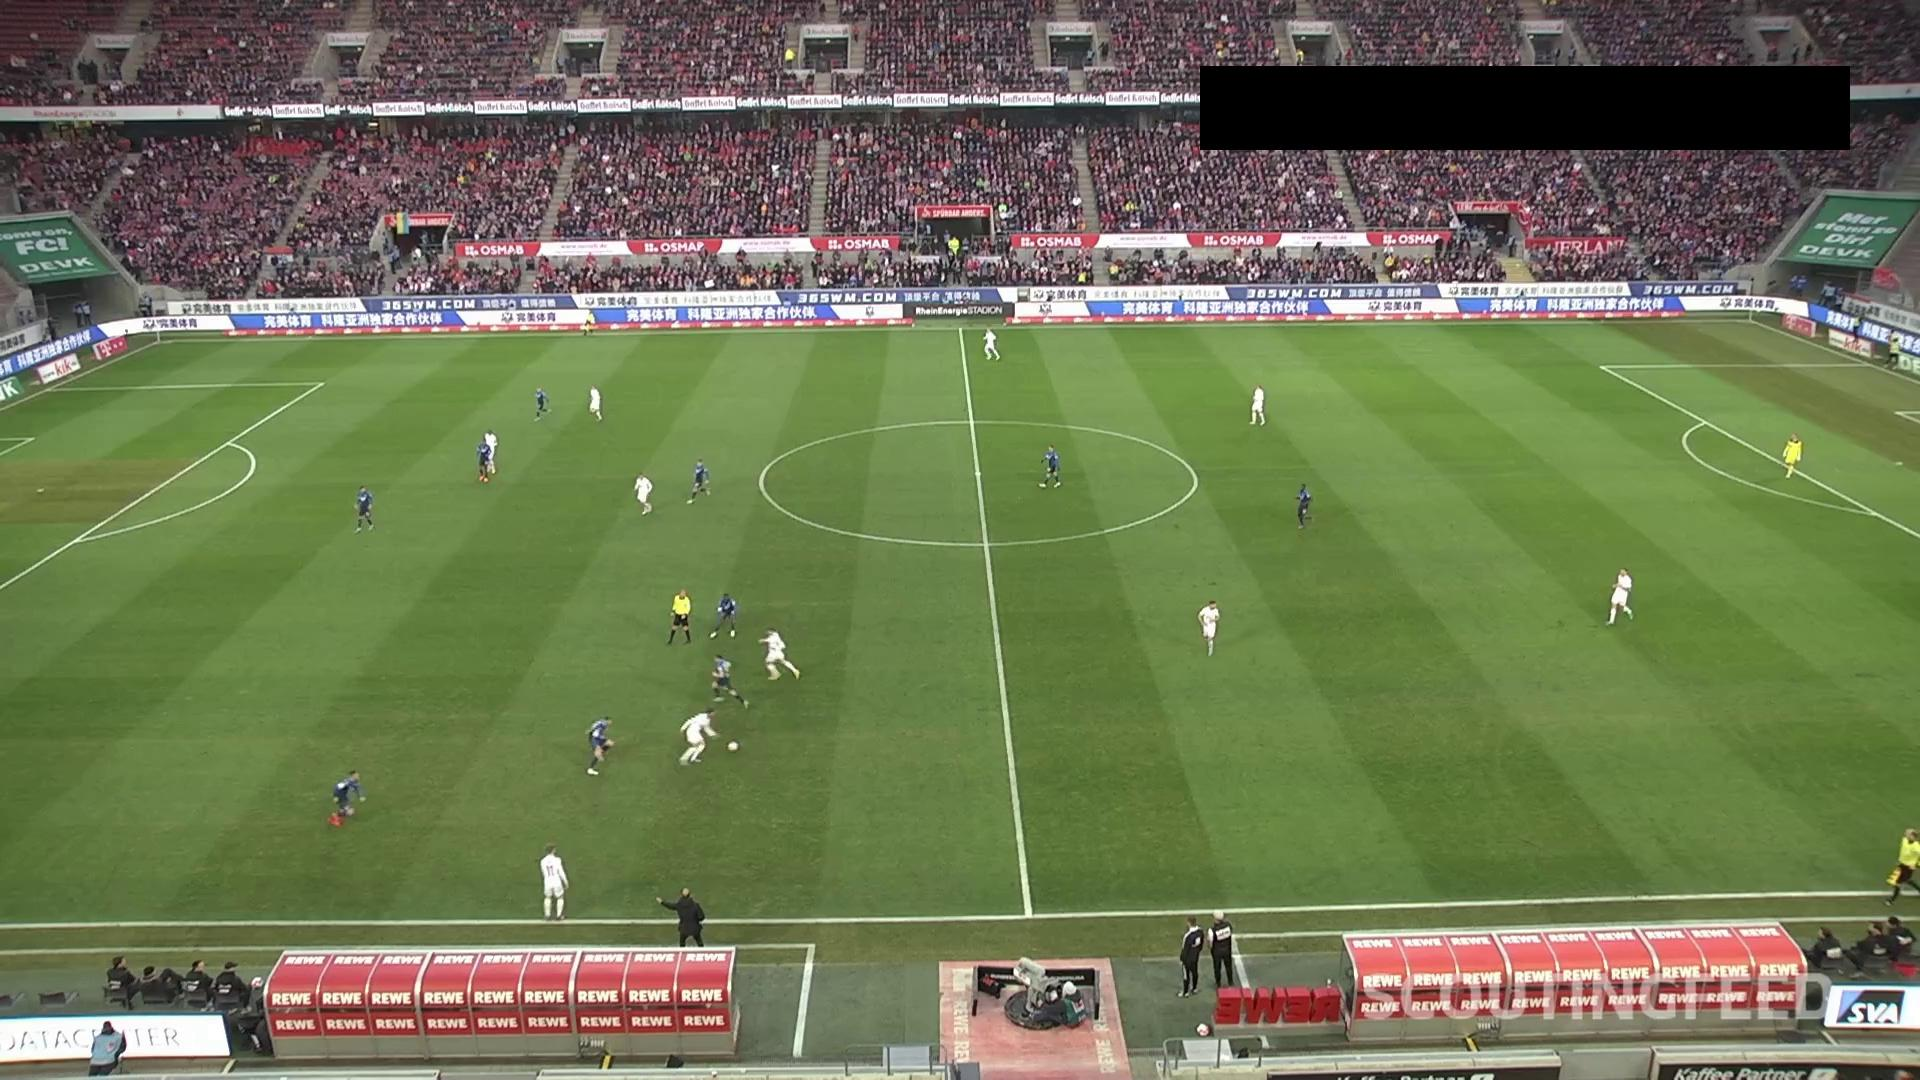Location-of-ball: (719, 733, 749, 758)
